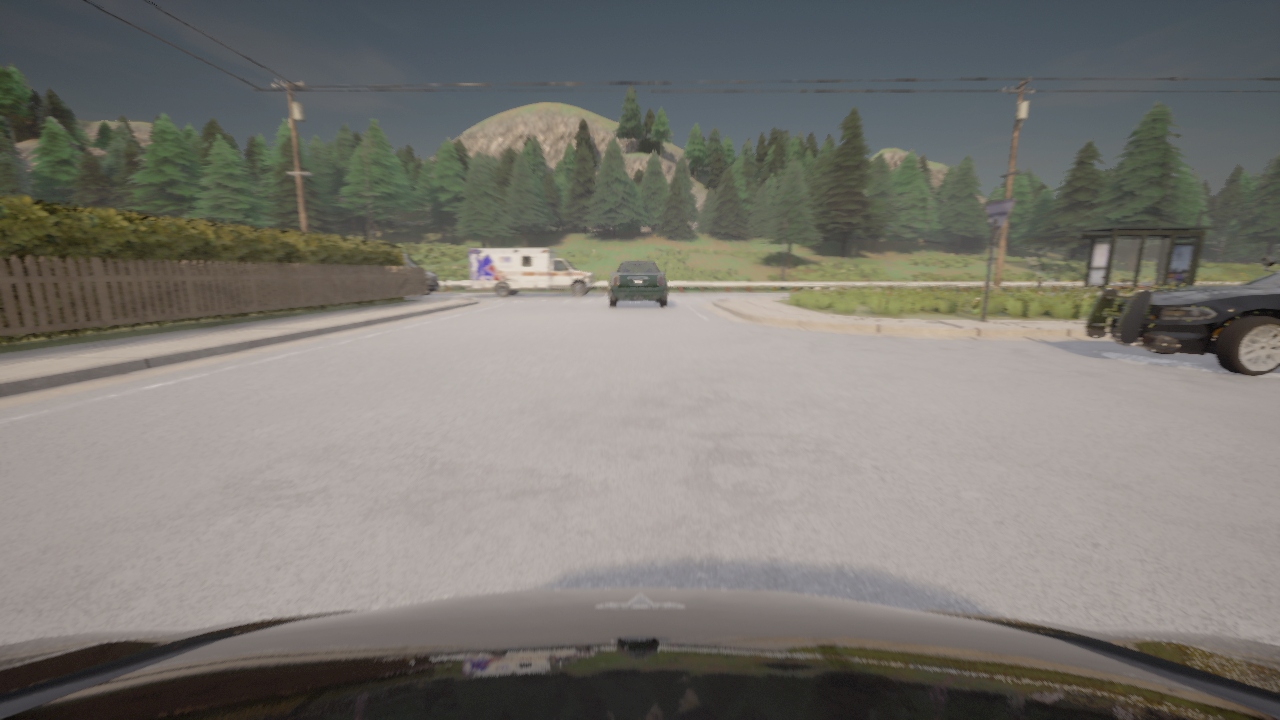cyclist: (0, 588, 1279, 719), (1084, 256, 1279, 376), (466, 248, 595, 297), (608, 259, 667, 306), (402, 253, 440, 295)
